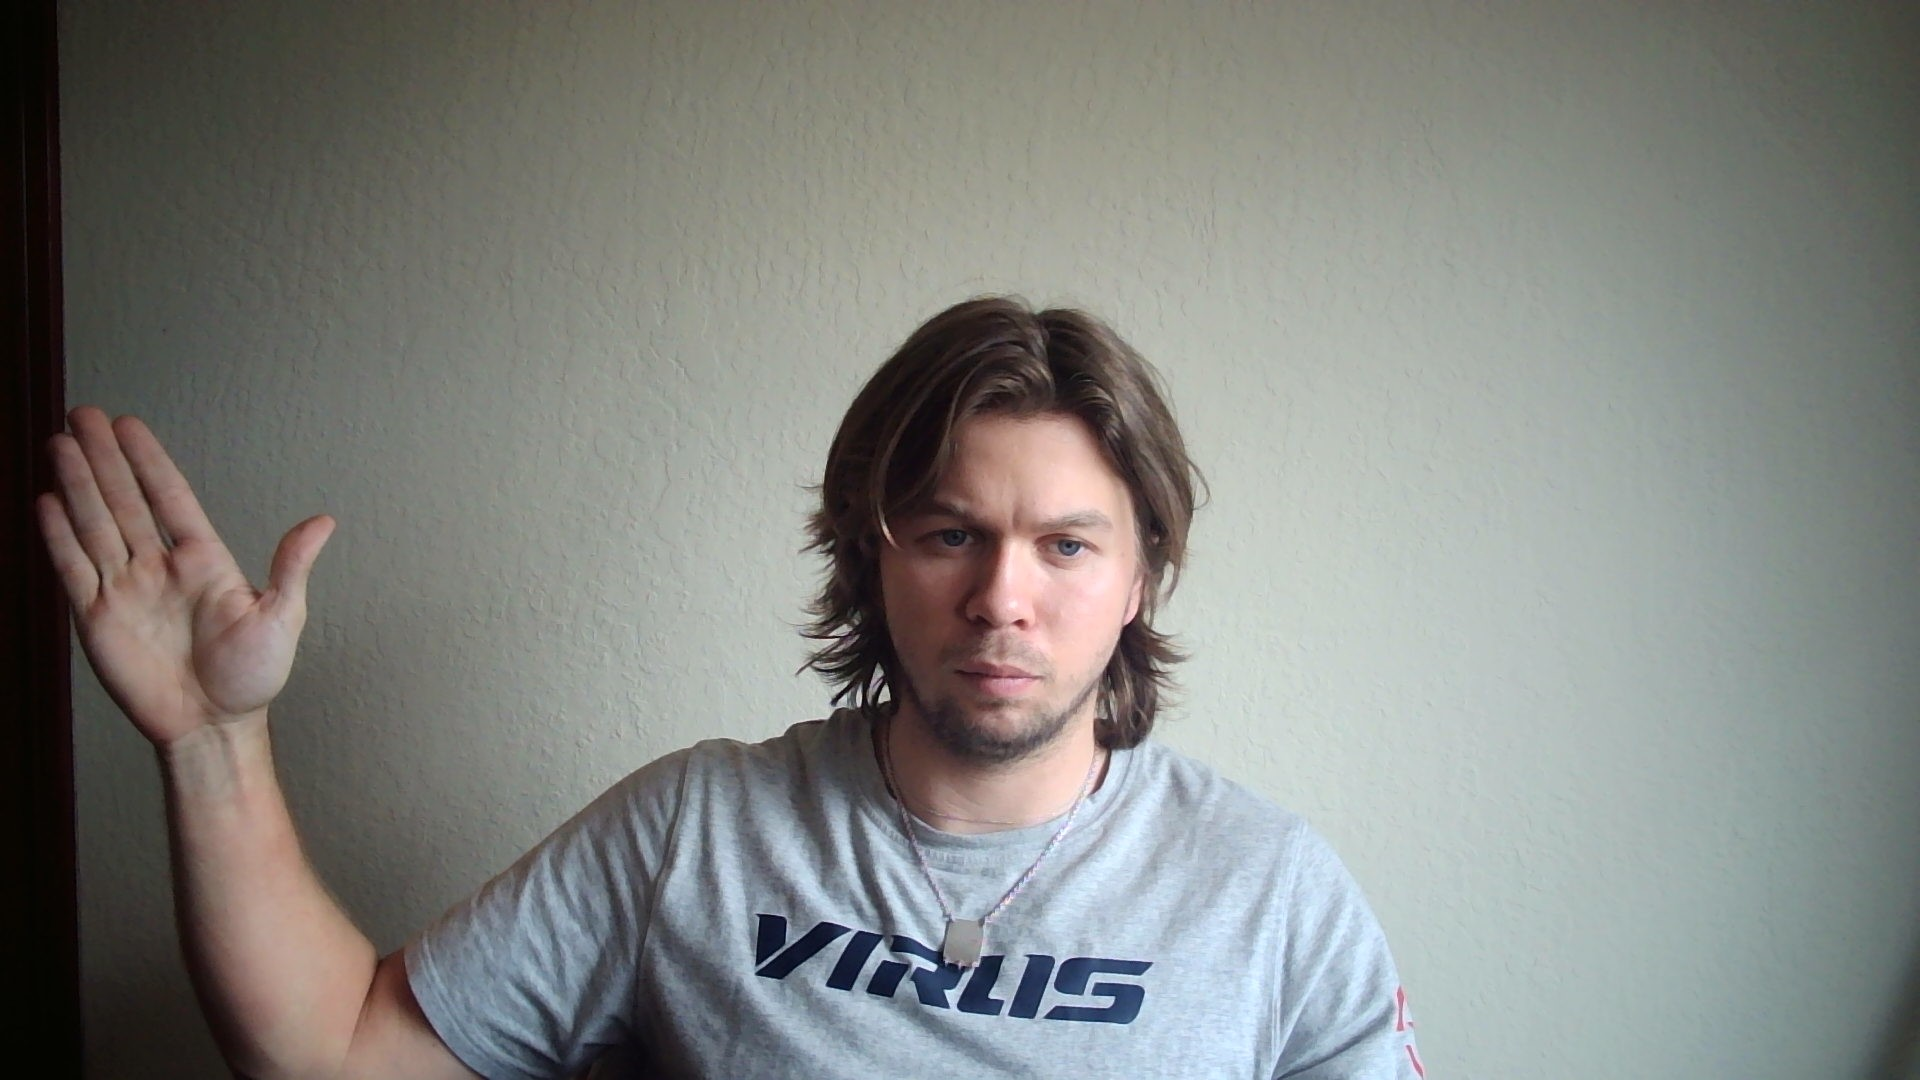hello: (33, 404, 336, 733)
